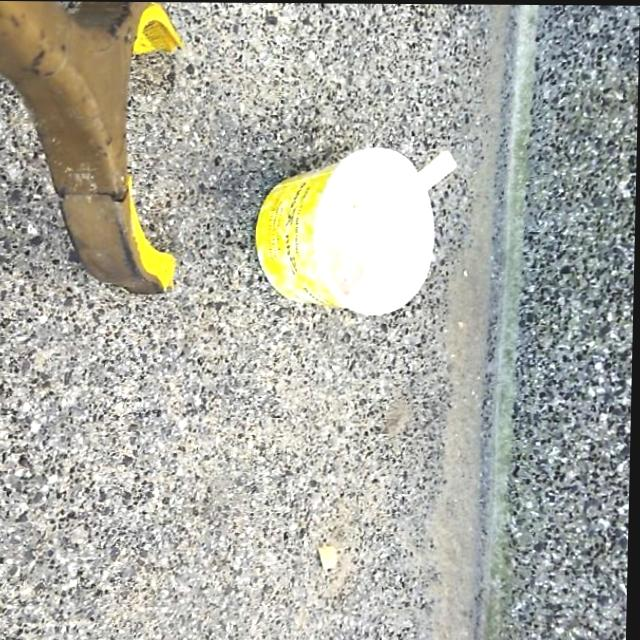Paper: (253, 142, 439, 319)
